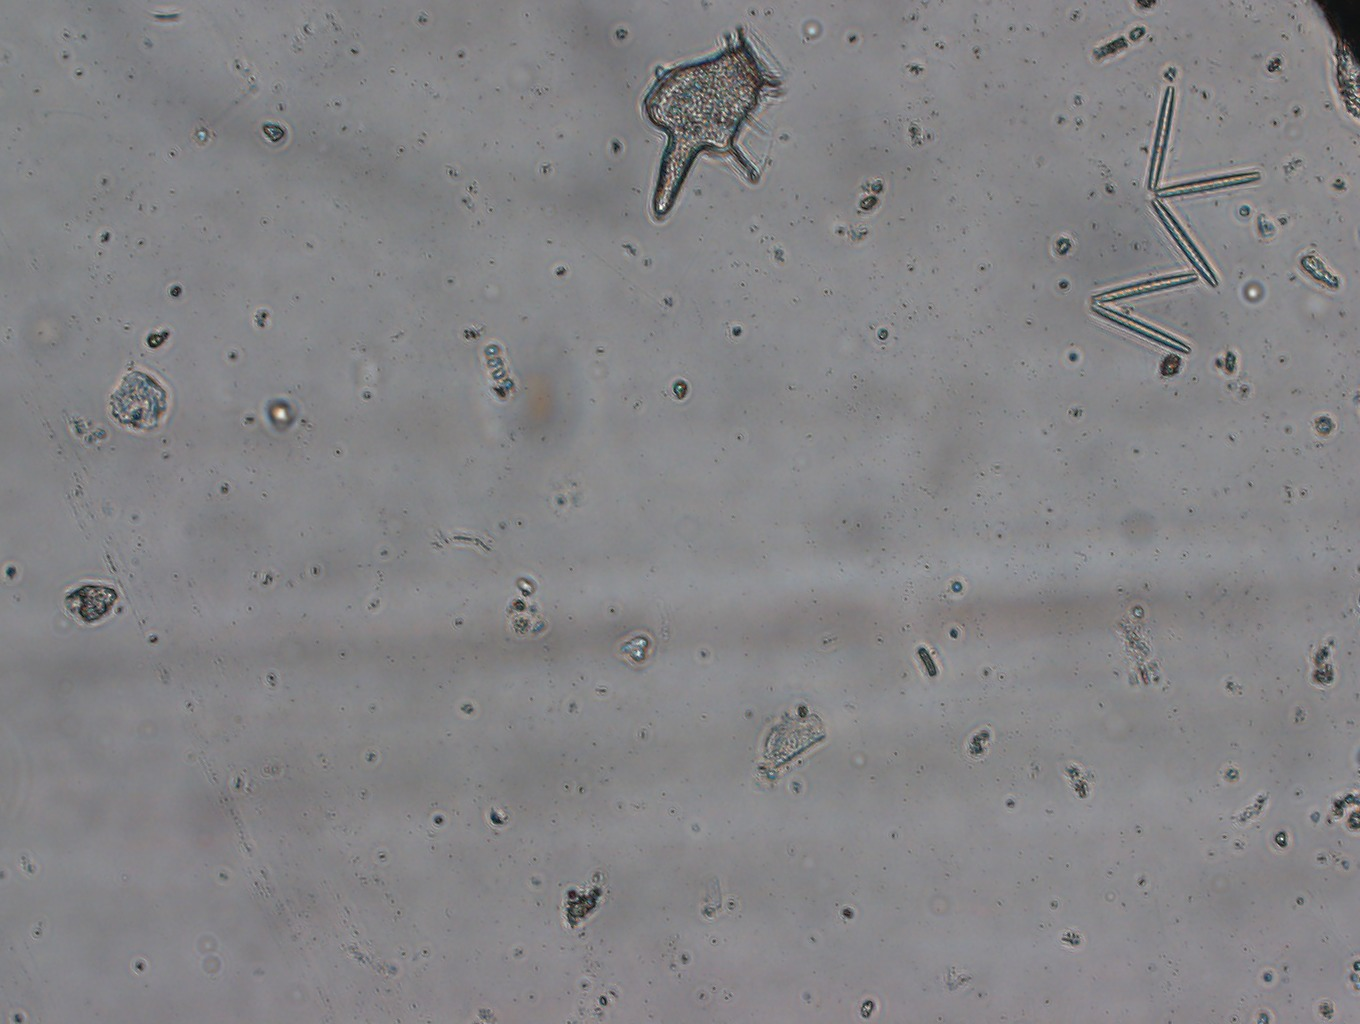dinophysis caudata: (638, 32, 789, 237)
thalassionema frauenfeldii: (1092, 80, 1277, 367)
